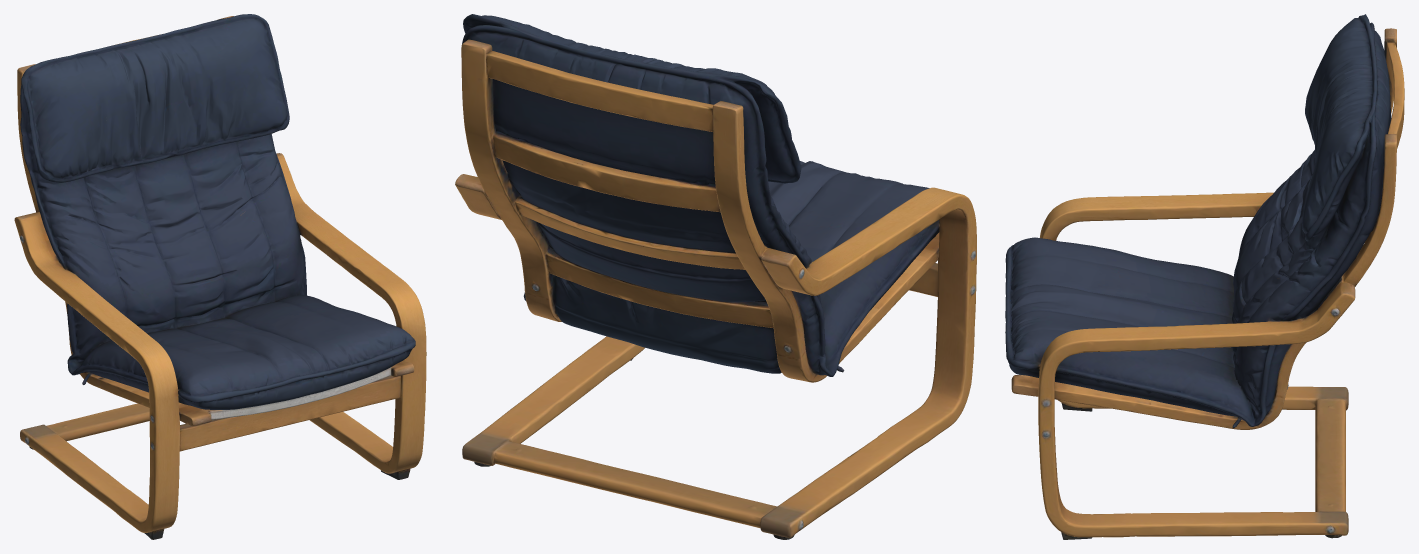
File: poltrona-cores.glb
3 renders of one model, left to right at view 1: azimuth 30°, elevation 25°; view 2: azimuth 150°, elevation 25°; view 3: azimuth 270°, elevation 25°, orthographic. The views are drawn at different scales.
Visible parts, largest first — view 1: tripo_node_4b1bee4f-5e4e-4dcc-bbf9-a41a63682b53; view 2: tripo_node_4b1bee4f-5e4e-4dcc-bbf9-a41a63682b53; view 3: tripo_node_4b1bee4f-5e4e-4dcc-bbf9-a41a63682b53.
Part boxes in pixels (bbox=[...]): tripo_node_4b1bee4f-5e4e-4dcc-bbf9-a41a63682b53: bbox=[14, 14, 426, 539]; tripo_node_4b1bee4f-5e4e-4dcc-bbf9-a41a63682b53: bbox=[455, 14, 976, 539]; tripo_node_4b1bee4f-5e4e-4dcc-bbf9-a41a63682b53: bbox=[1005, 14, 1404, 539].
Bounding box in the file's own units: 0.7751 × 1 × 0.9031.
Materials: 1 (1 with a texture image).
